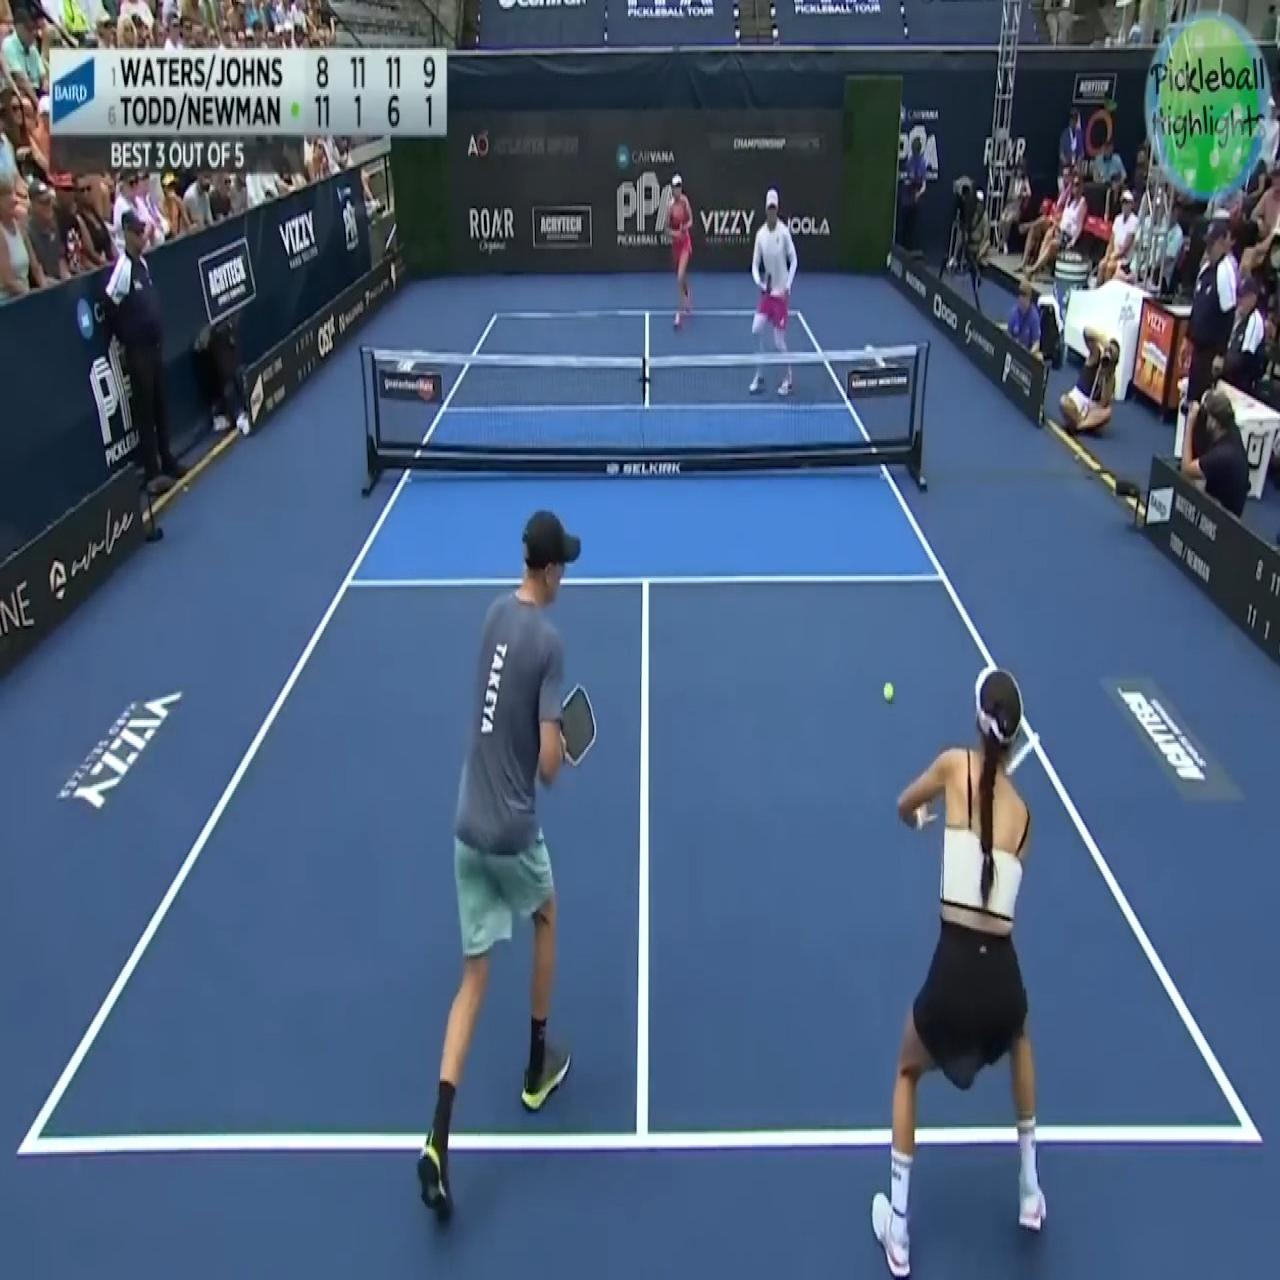Pickleball: (880, 675, 896, 706)
